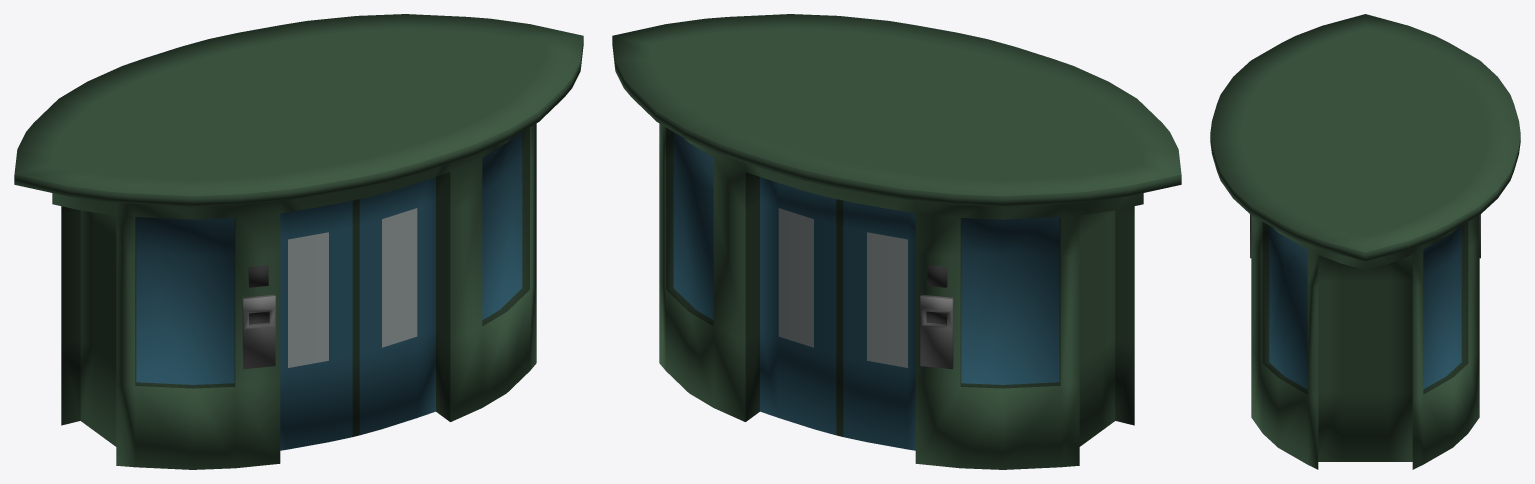
3 renders of one model, left to right at view 1: azimuth 30°, elevation 25°; view 2: azimuth 150°, elevation 25°; view 3: azimuth 270°, elevation 25°, orthographic. The views are drawn at different scales.
Parts seen in each view (by area): view 1: PublicToilet; view 2: PublicToilet; view 3: PublicToilet.
Boxes of the visible parts, x1,y1,x2,y2 form: PublicToilet: (14, 14, 583, 469); PublicToilet: (612, 14, 1181, 469); PublicToilet: (1210, 14, 1520, 469).
Size of the model in its own units: 0.5 by 0.2429 by 0.2748.
